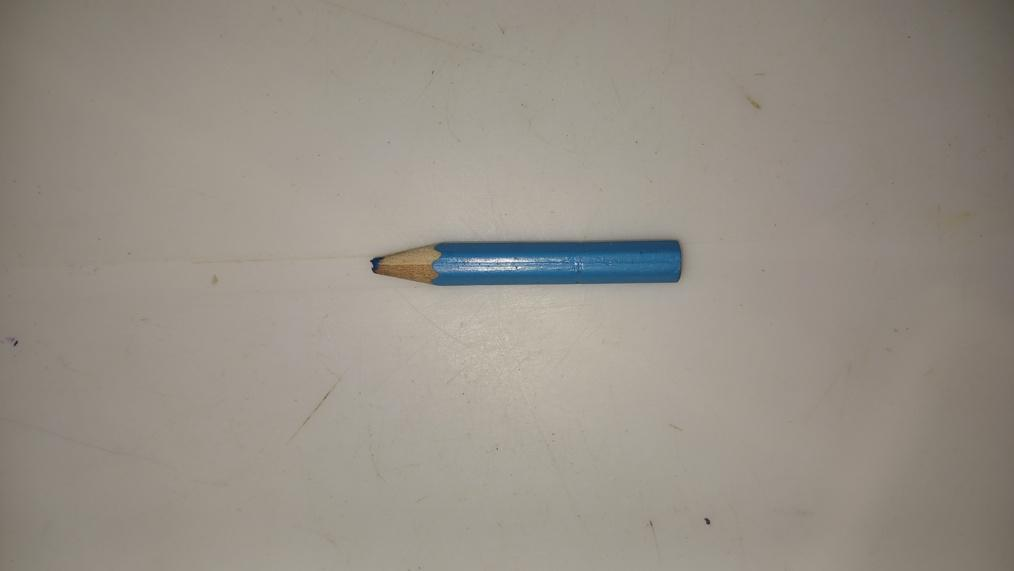Pencil: (370, 239, 683, 289)
